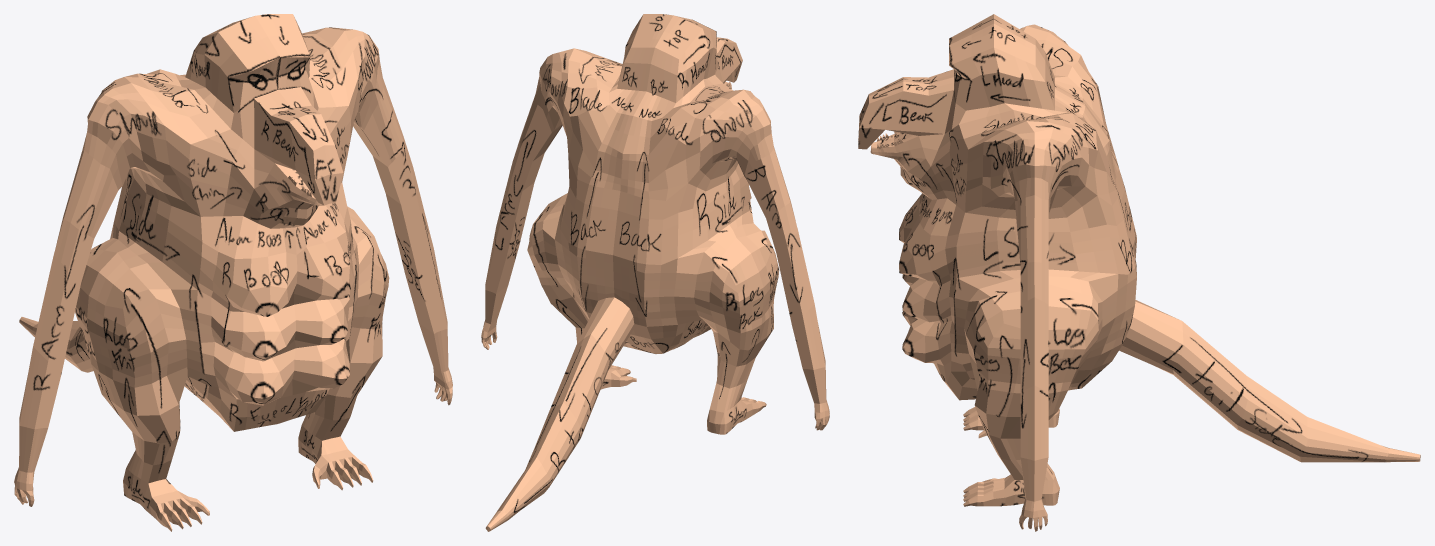
File: TheCreature3Evolution_Obj.fbx
The picture shows the model from 3 angles, left to right: view 1: azimuth 30°, elevation 25°; view 2: azimuth 150°, elevation 25°; view 3: azimuth 270°, elevation 25°; orthographic projection. The views are drawn at different scales.
Visible parts, largest first — view 1: Cube; view 2: Cube; view 3: Cube.
Part boxes in pixels (<box>): Cube: <box>14,14,452,531</box>; Cube: <box>481,14,829,531</box>; Cube: <box>858,14,1420,531</box>.
Bounding box in the file's own units: 233 × 246 × 286.
Materials: 1 (1 with a texture image).
